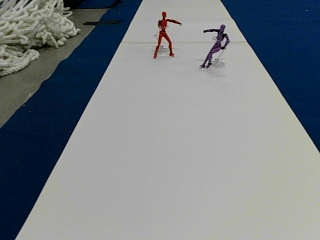pedestrian: (153, 11, 182, 58), (201, 22, 229, 68)
